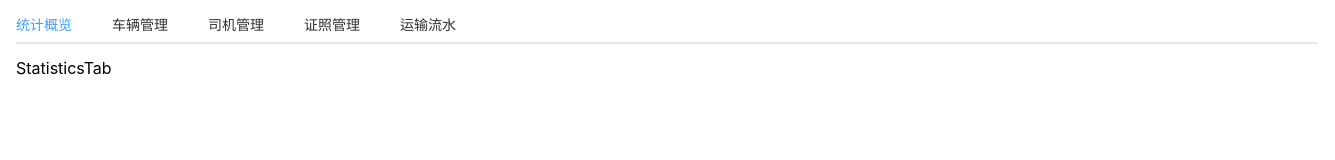
Test: FleetPage › switches to certificate tab when activeTab changes
This screenshot has width=1335, height=160.
Click the tab "证照管理".
click(332, 24)  # box [304,16,360,33]
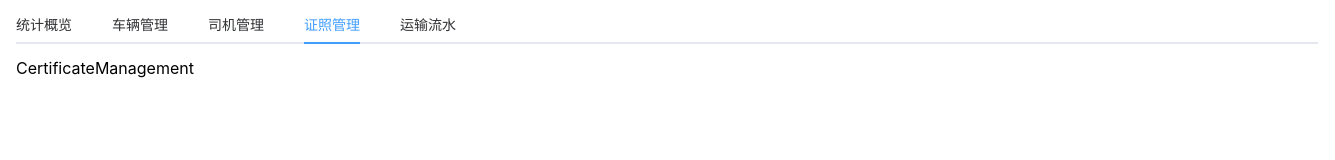
Expected: the text "CertificateManagement" is shown, [16,58,194,78]
